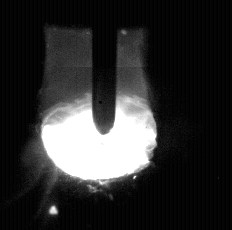arame: (93, 0, 117, 135)
poca: (40, 0, 158, 230)
